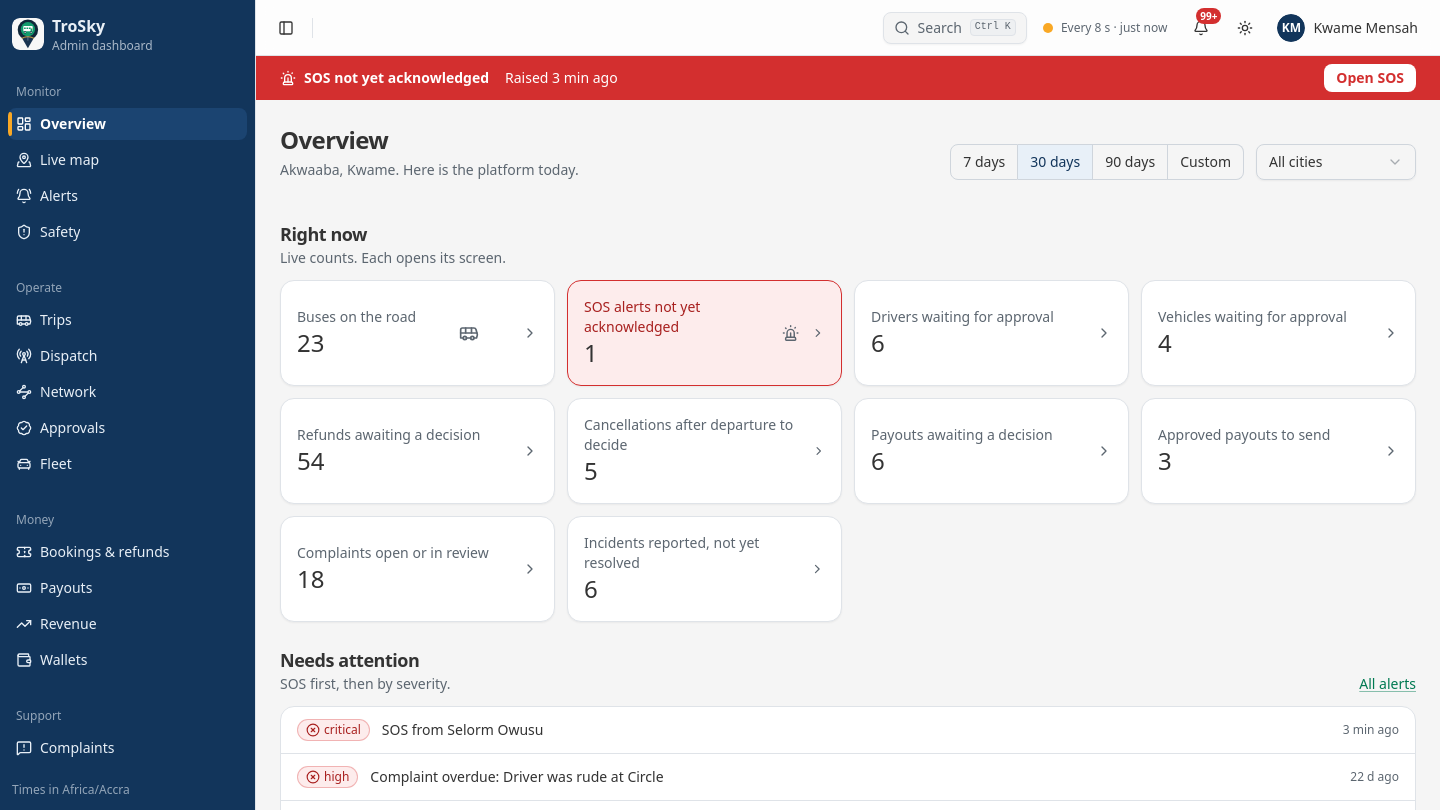
Test: the top bar › says how live data arrives, and saves data on request
Click the button with aria-label "Live updates: Every 8 s" at [1105, 28], box [1035,12,1175,44]
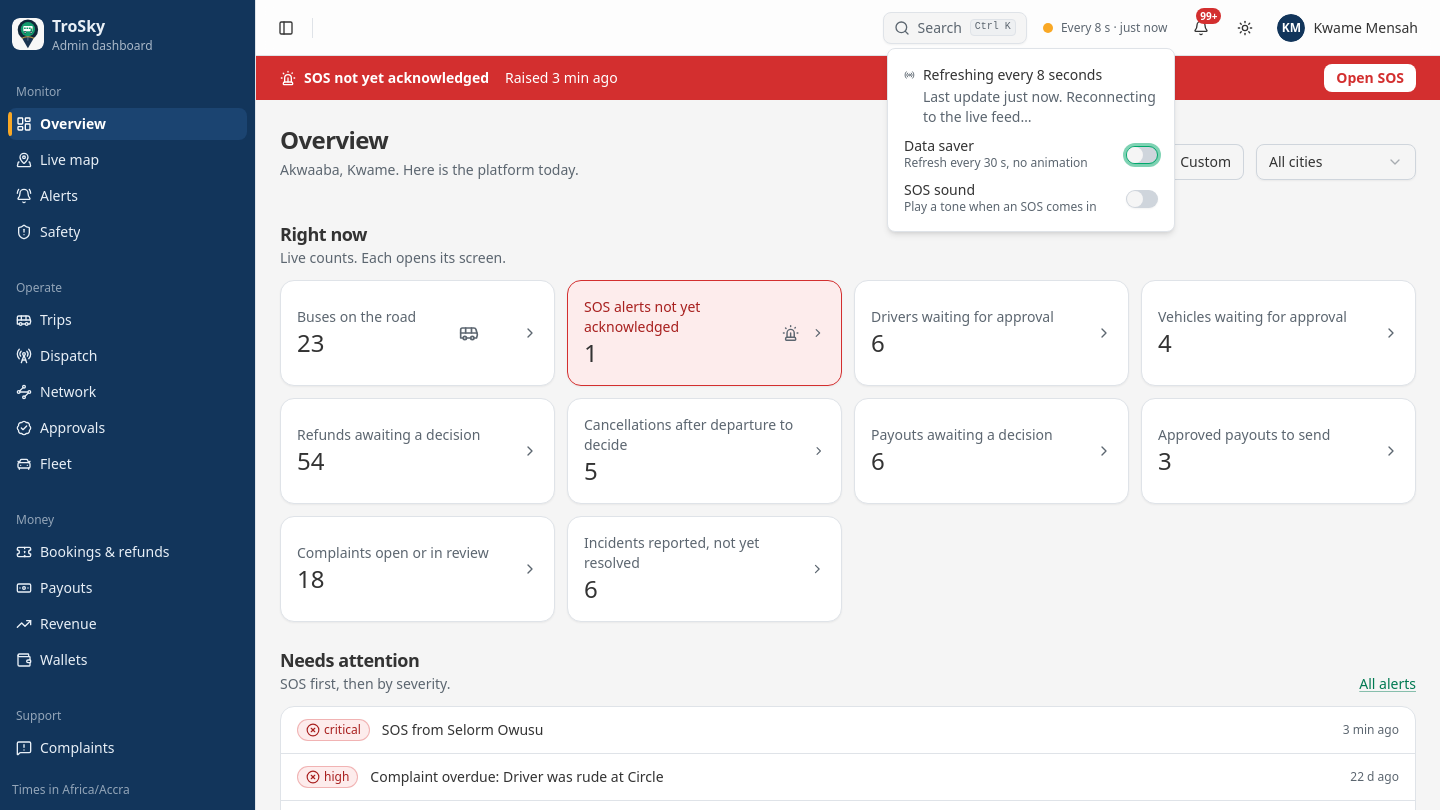
Click the switch named "Data saver" next to "Refresh every 30 s, no animation" at [1142, 155], box [1126,146,1158,164]
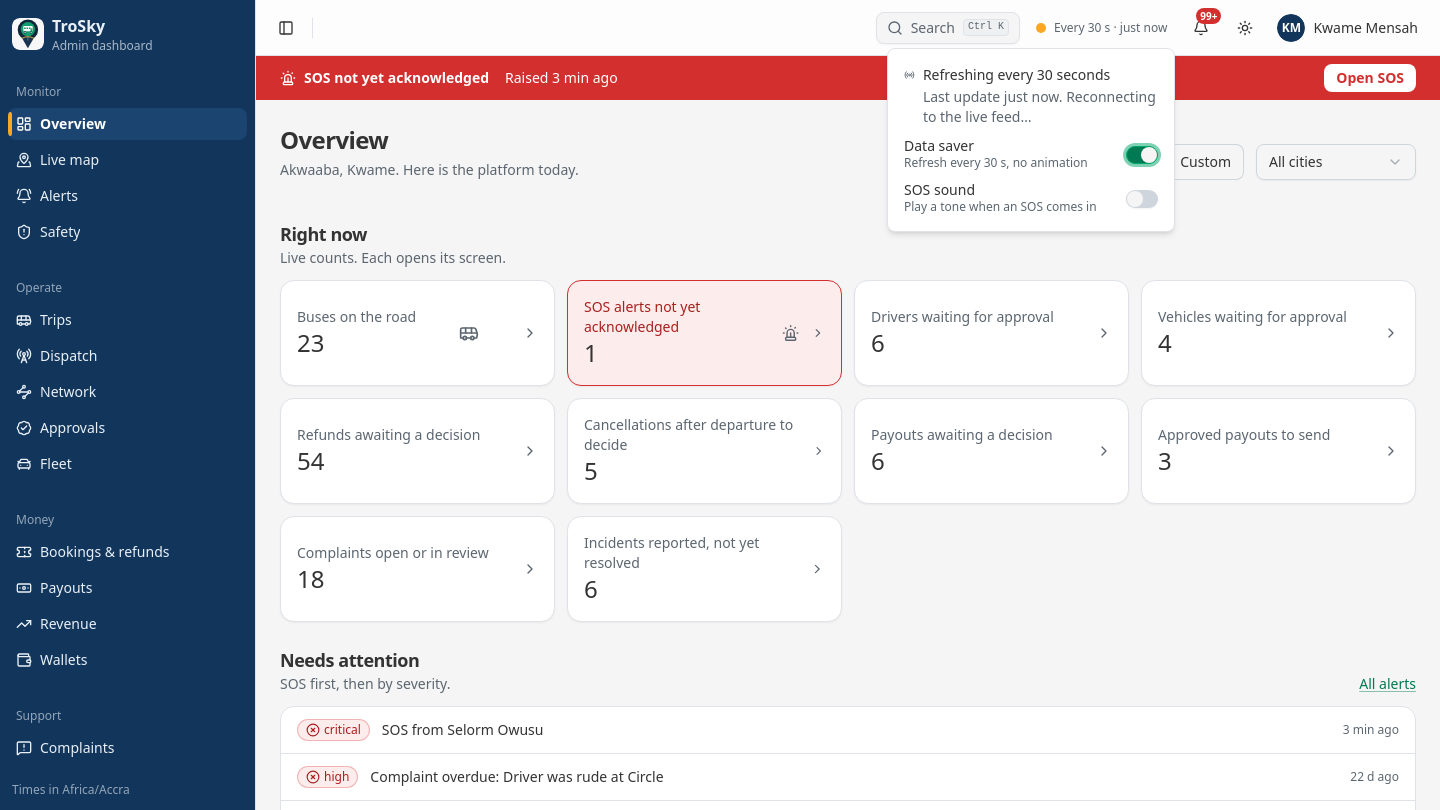
Expected: the button with aria-label "Live updates: Every 30 s" is shown, [1028,12,1175,44]
